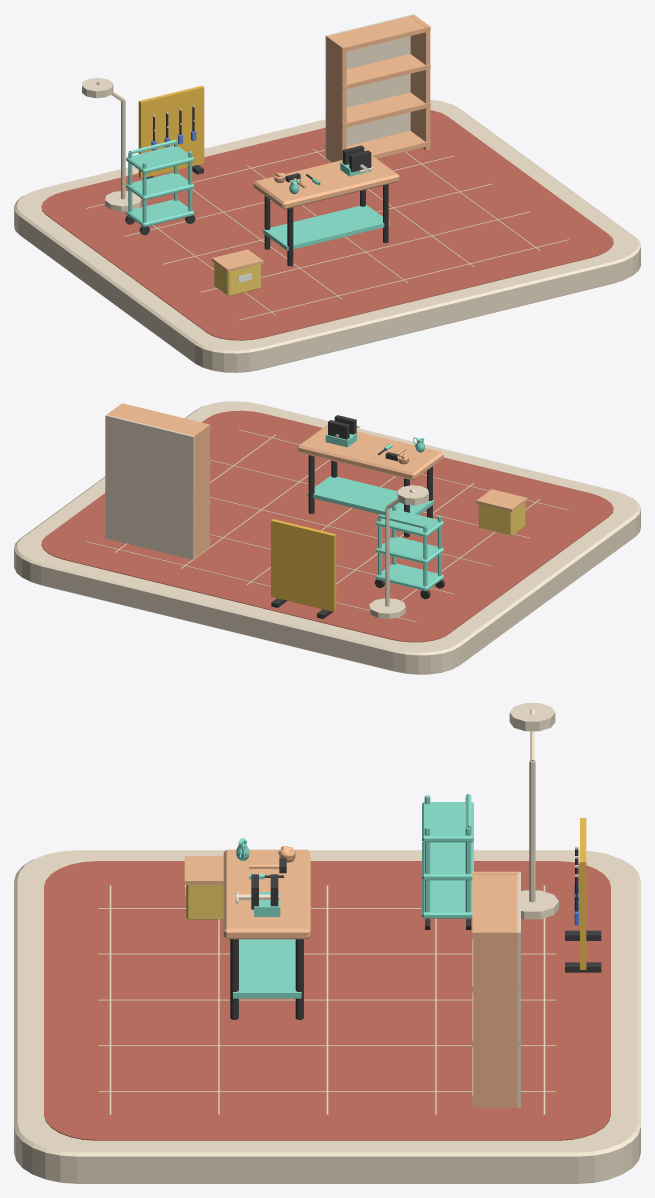
3 renders of one model, top to bottom at view 1: azimuth 30°, elevation 25°; view 2: azimuth 150°, elevation 25°; view 3: azimuth 270°, elevation 25°, orthographic. The views are drawn at different scales.
Parts seen in each view (by area): view 1: COM-02 Floor Surface, COM-01 Rounded Base Direct, Back, Panel, Worktop, Lower shelf, Side, Side.001, Shelf.003, Shelf.001, Shelf.002, Shelf (+7 smaller); view 2: COM-02 Floor Surface, COM-01 Rounded Base Direct, Back, Panel, Worktop, Lower shelf, Side, Shelf.003, Box, Tray.001, Tray, Tray.002 (+5 smaller); view 3: COM-02 Floor Surface, COM-01 Rounded Base Direct, Side.001, Worktop, Lower shelf, Shelf.003, Tray.002, Tray.001, Tray, Box, Lid, Lamp head (+12 smaller).
Boxes of the visible parts, box(x1,y1,x2,y2) form: COM-02 Floor Surface: box(41, 110, 613, 340); COM-01 Rounded Base Direct: box(14, 99, 640, 372); Back: box(325, 14, 413, 158); Panel: box(138, 85, 204, 178); Worktop: box(253, 155, 399, 209); Lower shelf: box(263, 204, 389, 250); Side: box(326, 35, 346, 162); Side.001: box(410, 14, 430, 150); Shelf.003: box(325, 16, 430, 52); Shelf.001: box(325, 92, 430, 128); Shelf.002: box(326, 54, 430, 89); Shelf: box(325, 131, 430, 161); COM-02 Floor Surface: box(41, 410, 613, 642); COM-01 Rounded Base Direct: box(14, 401, 640, 674); Back: box(105, 414, 194, 559); Panel: box(271, 519, 336, 611); Worktop: box(297, 424, 443, 480); Lower shelf: box(307, 475, 434, 515); Side: box(190, 424, 209, 558); Shelf.003: box(111, 403, 210, 439); Box: box(478, 503, 525, 535); Tray.001: box(375, 536, 443, 564); Tray: box(375, 563, 443, 591); Tray.002: box(375, 509, 443, 537); COM-02 Floor Surface: box(44, 861, 610, 1140); COM-01 Rounded Base Direct: box(14, 850, 640, 1183); Side.001: box(473, 929, 519, 1107); Worktop: box(223, 849, 310, 939); Lower shelf: box(233, 939, 301, 998); Shelf.003: box(472, 871, 519, 938); Tray.002: box(422, 802, 473, 842); Tray.001: box(422, 841, 473, 880); Tray: box(422, 880, 472, 918); Box: box(186, 885, 223, 919); Lid: box(184, 856, 223, 884); Lamp head: box(509, 703, 555, 731).
Bounding box in the file's own units: 6 × 1.96 × 5.2.
1 material, 1 textured.
